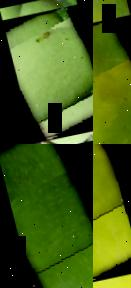PartiallyRipe: (93, 144, 131, 284), (93, 16, 131, 144)
Unripe: (0, 144, 93, 288), (1, 5, 93, 140)
